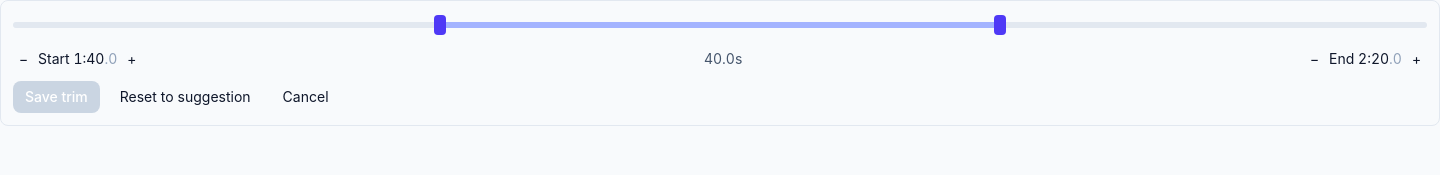
Test: TrimControls › blocks saving clips that are too short or too long, and resets
Step 1. Set the slider named "Clip start" to "138" → x=972, y=25, box [13,13,1427,37]
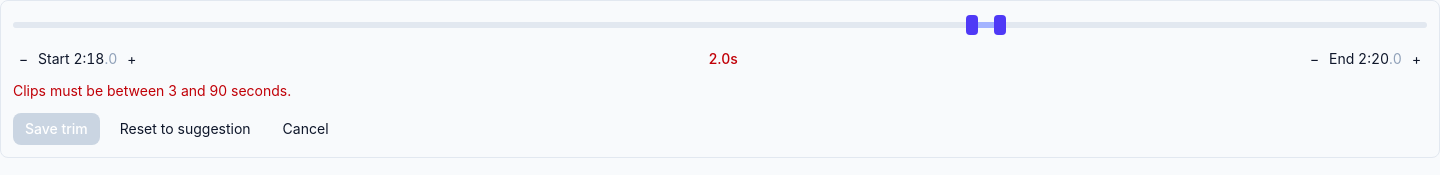
Expected: the button "Save trim" is disabled, [13,113,100,145]
Result: the text "Clips must be between 3 and 90 seconds." is shown at [13,82,291,99]
Step 2. Set the slider named "Clip start" to "70" → x=21, y=25, box [13,13,1427,37]
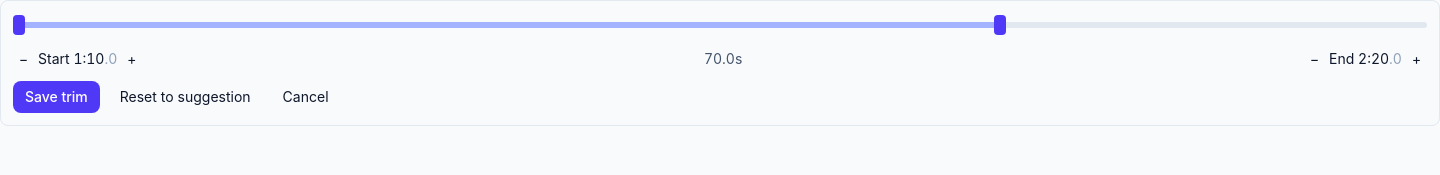
Step 3. Set the slider named "Clip end" to "170" → x=1419, y=25, box [13,13,1427,37]
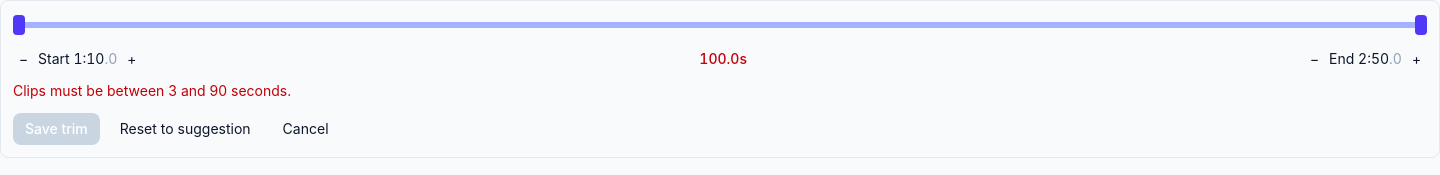
Result: the button "Save trim" is disabled at [13,113,100,145]
Step 4. Click the button "Reset to suggestion" → x=185, y=129, box [108,113,263,145]
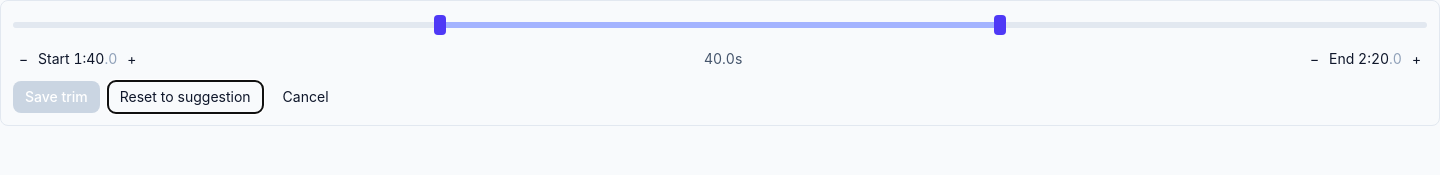
Result: the slider named "Clip start" holds "100" at [13,13,1427,37]
Result: the slider named "Clip end" holds "140" at [13,13,1427,37]
